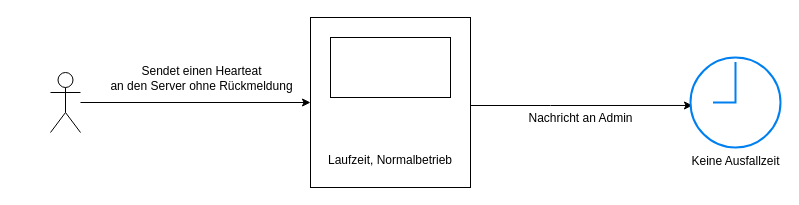
Some shapes in this 799 by 205 pixel diagram are drawn without their labels. Each missing label, with the box of its shape:
Gesamtsystem: (330, 36, 450, 98)
Heartbeat-Monitor: (50, 72, 80, 132)
